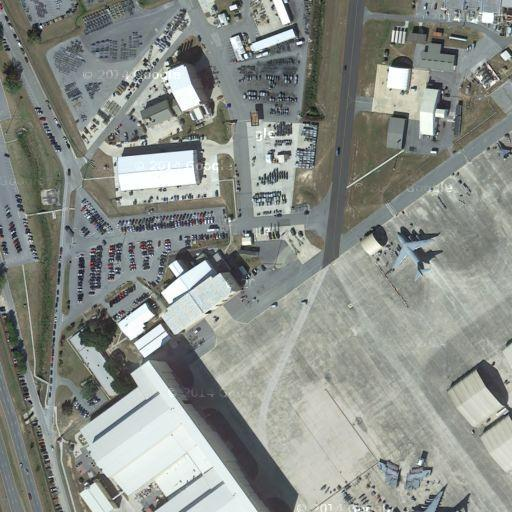KC-135: (384, 227, 443, 283)
